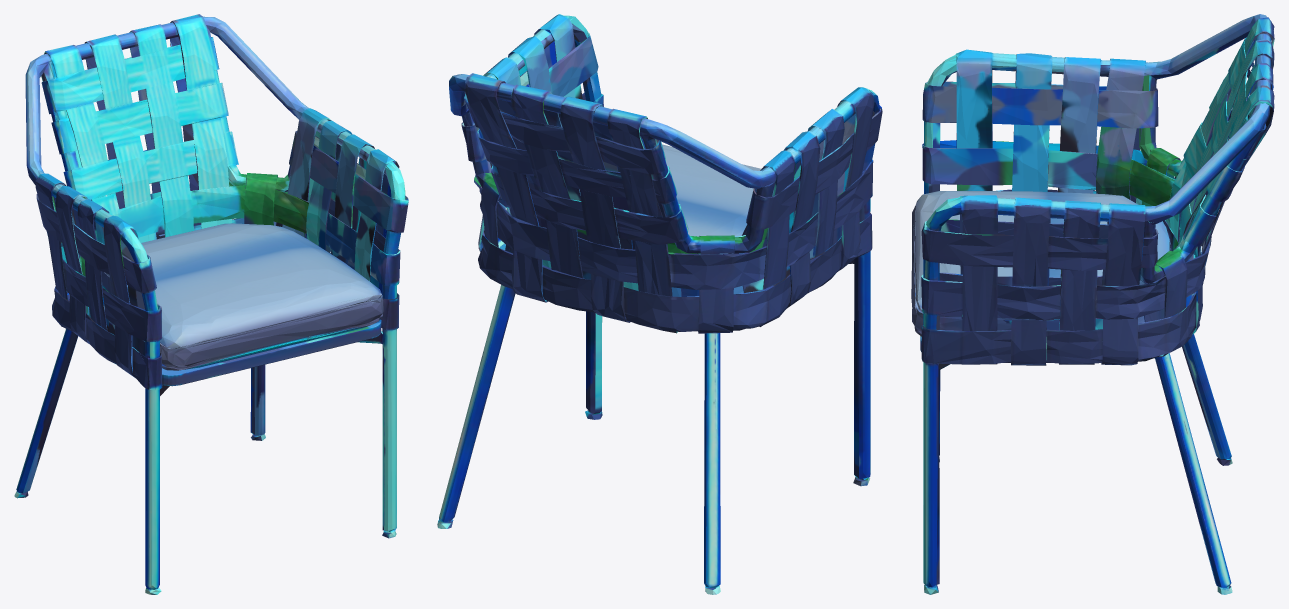
File: edited_mesh.glb
The picture shows the model from 3 angles, left to right: view 1: azimuth 30°, elevation 25°; view 2: azimuth 150°, elevation 25°; view 3: azimuth 270°, elevation 25°; orthographic projection. The views are drawn at different scales.
Parts seen in each view (by area): view 1: solid_001_wire; view 2: solid_001_wire; view 3: solid_001_wire.
Part boxes in pixels (bbox=[...]): solid_001_wire: bbox=[14, 14, 408, 594]; solid_001_wire: bbox=[437, 14, 882, 594]; solid_001_wire: bbox=[911, 14, 1274, 594].
Bounding box in the file's own units: 1.04 × 1.48 × 1.04.
Materials: 1 (1 with a texture image).
